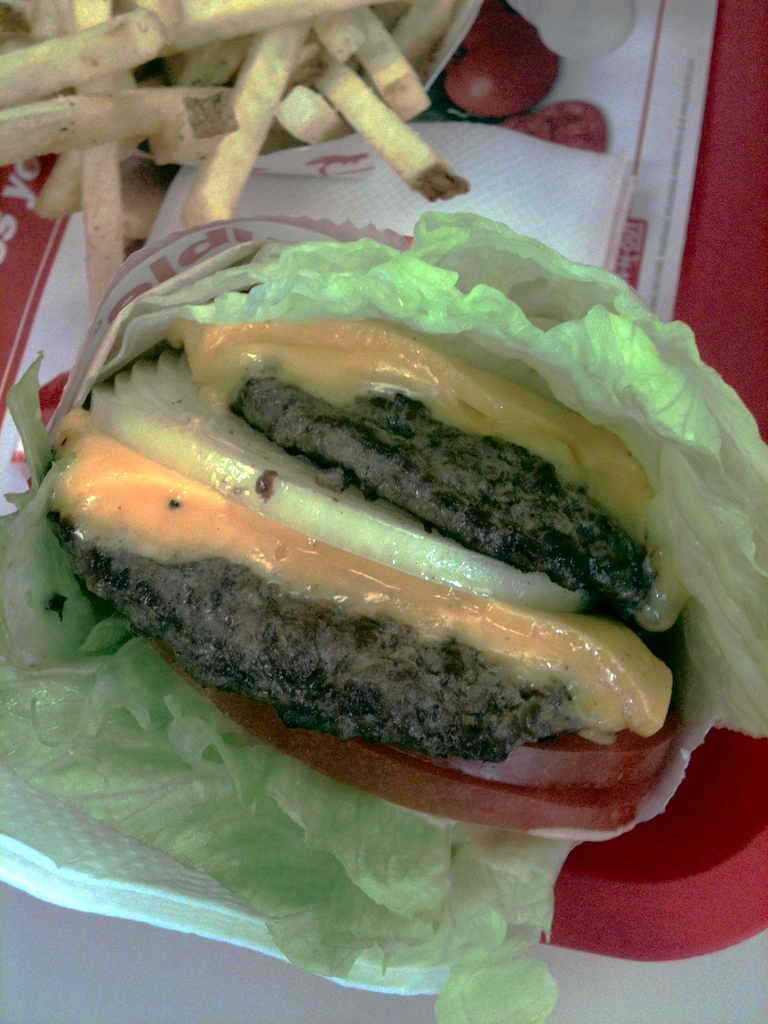chopped lettuce: (25, 644, 493, 1010), (334, 211, 768, 546)
